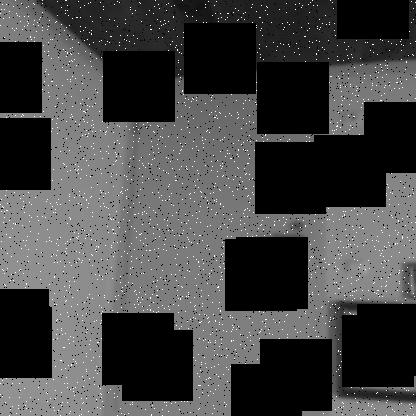Porte: (99, 64, 334, 415)
